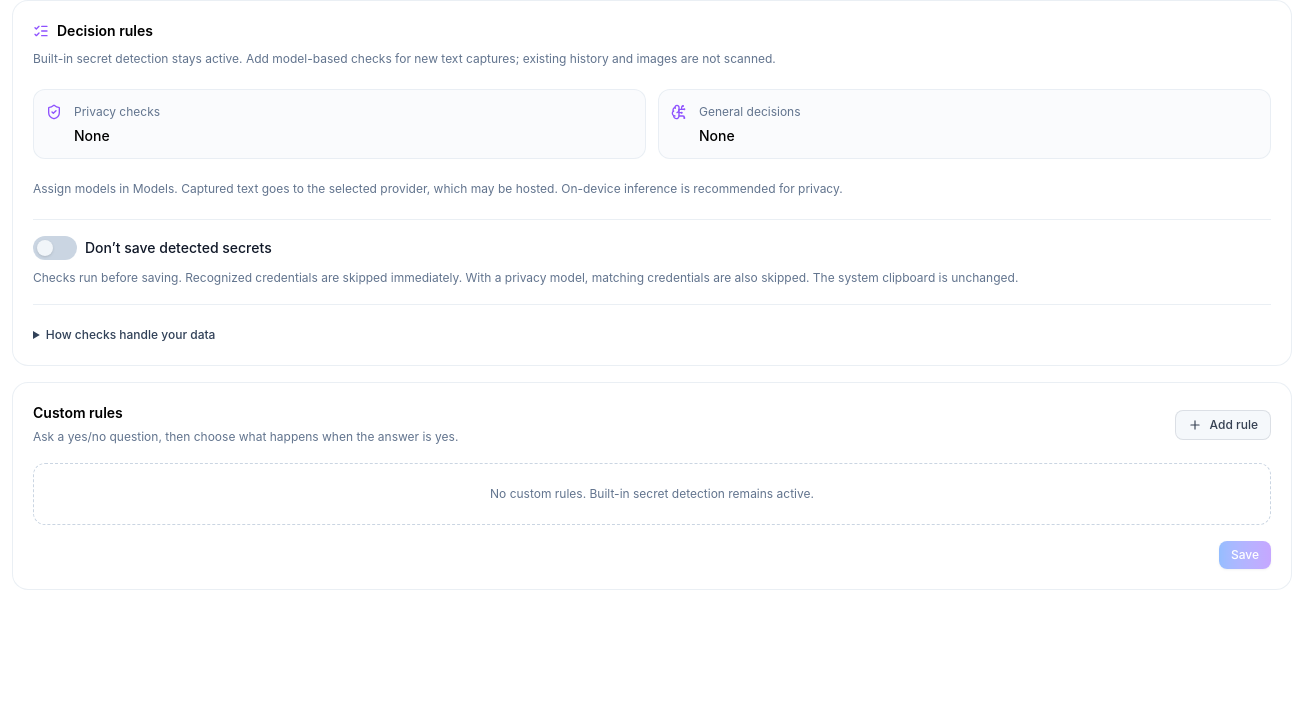
Scenario: keeps the saved switch value and reports a failed save
Click the switch named "Don’t save detected secrets": coordinates (55, 248) [33,236,77,260]
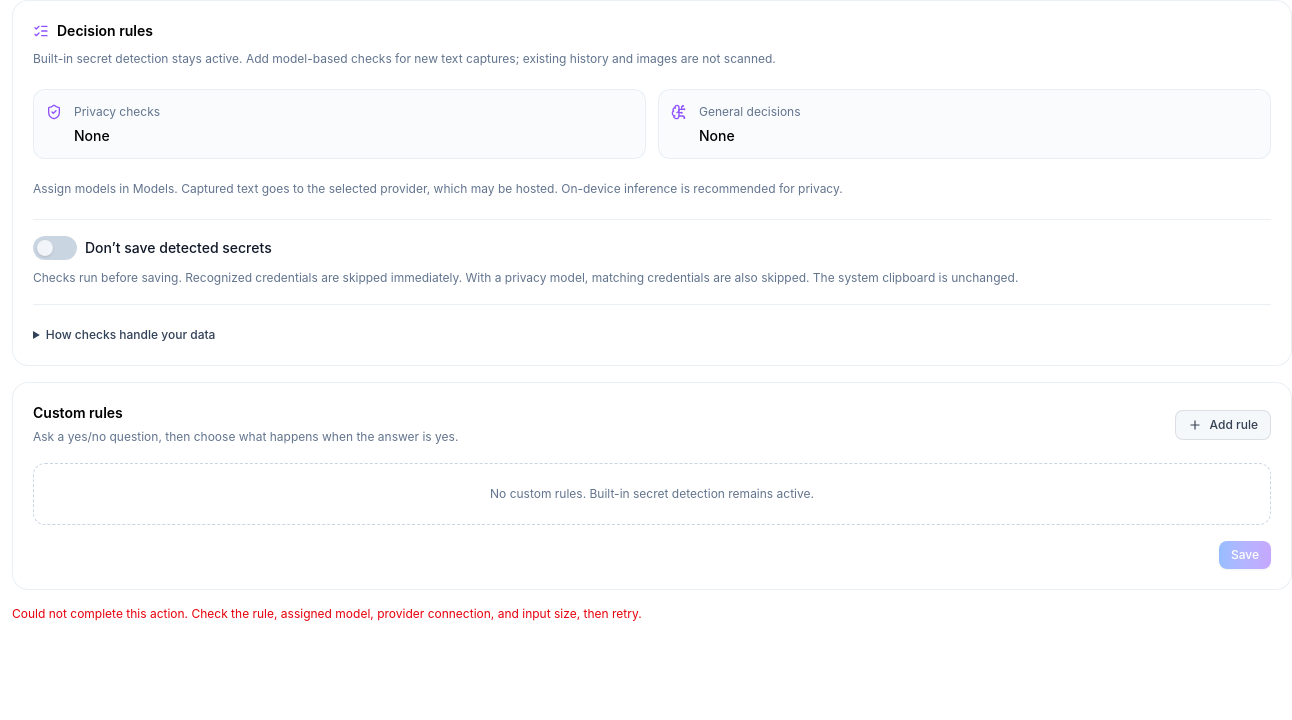
expect the message is shown: met, box [12,606,642,621]
